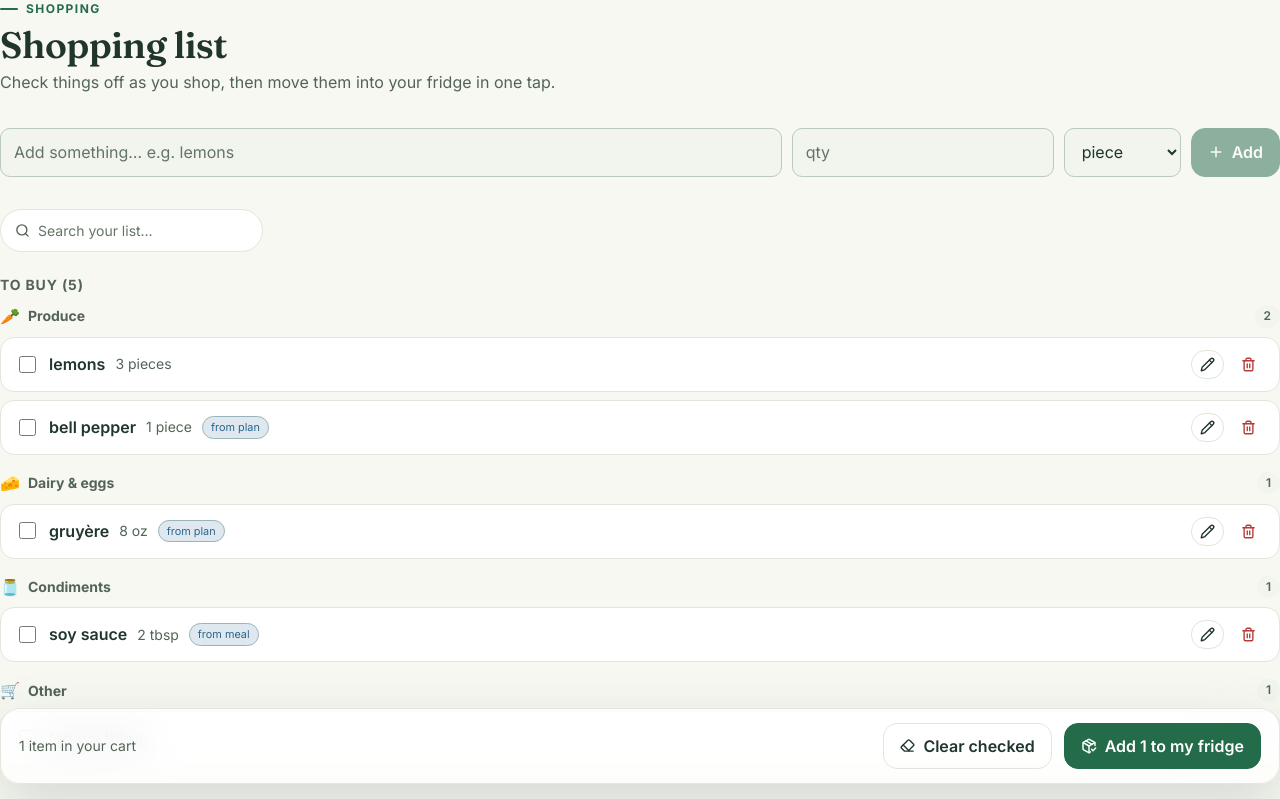
walks the list aisle by aisle and searches across sections
Expected: the heading "To buy (5)" is shown, left=0, top=276, right=84, bottom=293
Expected: the headings read "🥕Produce2", "🧀Dairy & eggs1", "🫙Condiments1", "🛒Other1", in this order, left=0, top=304, right=1279, bottom=329; left=0, top=471, right=1279, bottom=496; left=0, top=574, right=1279, bottom=599; left=0, top=678, right=1279, bottom=703
Type "gru" into the search field named "Search shopping list".
click(143, 231); type("gru")  # box left=38, top=210, right=248, bottom=251
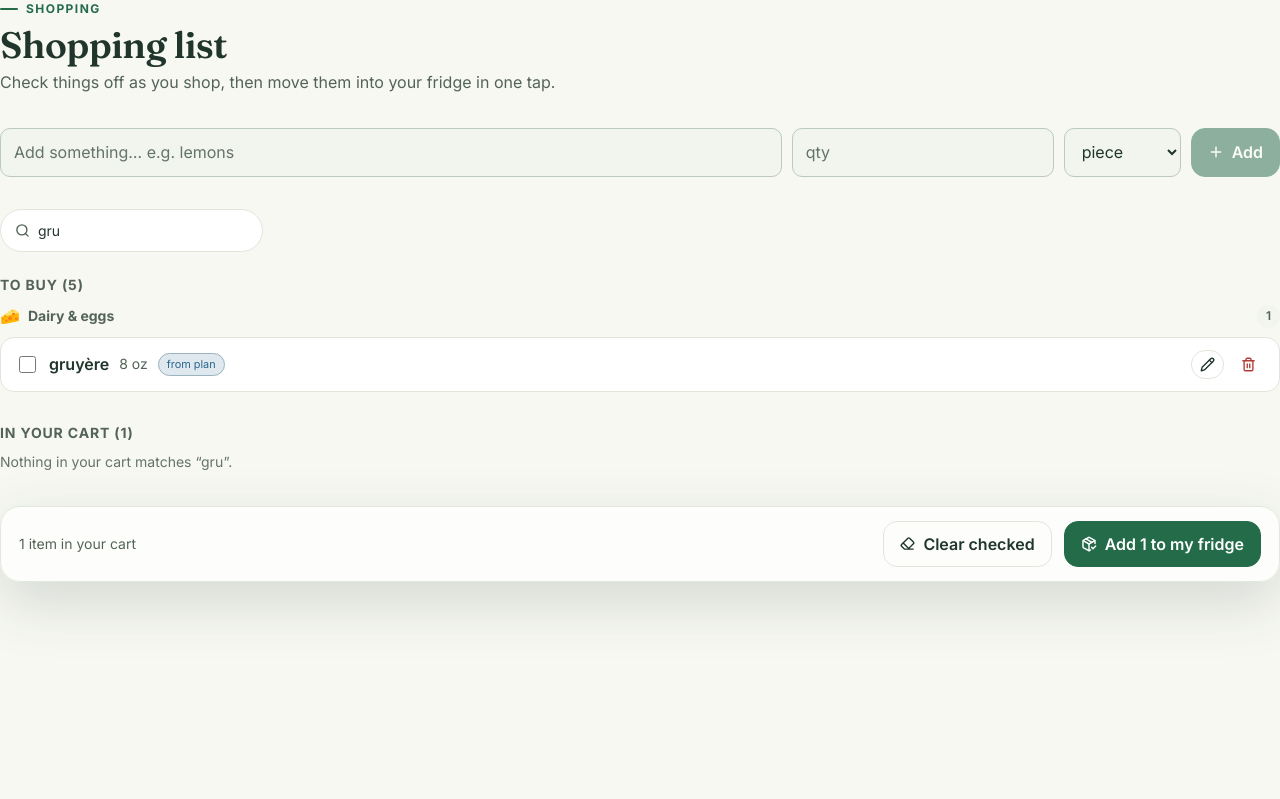
Now the headings read "🧀Dairy & eggs1", in this order, box left=0, top=304, right=1279, bottom=329
Now the text "Nothing in your cart matches “gru”." is shown, box left=0, top=453, right=232, bottom=470
